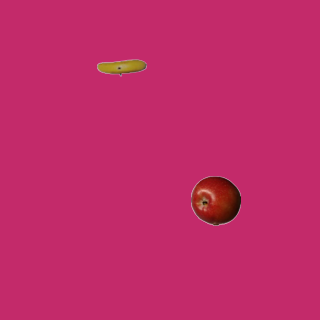Apple Braeburn: (190, 175, 240, 225)
Banana: (96, 42, 146, 92)
